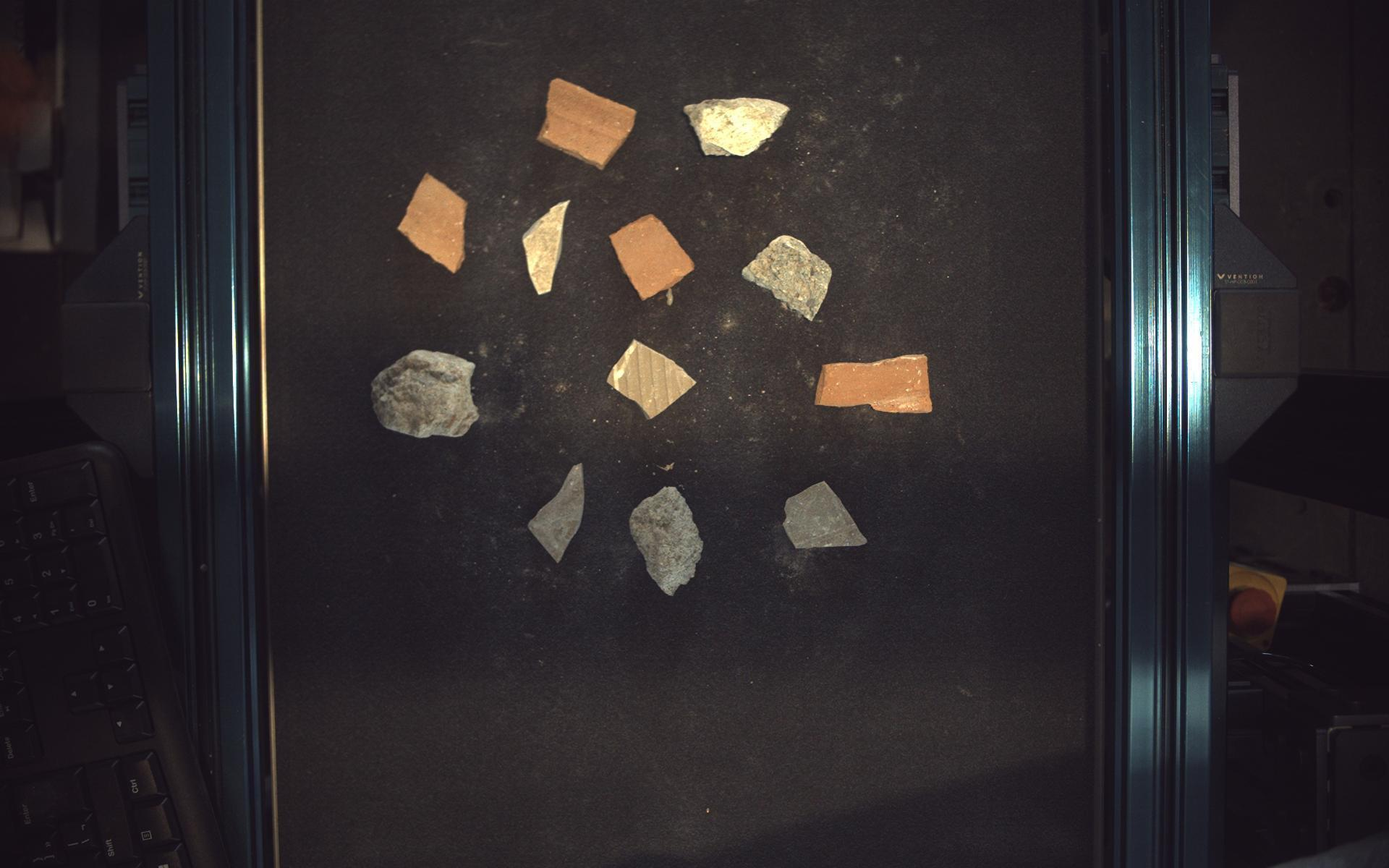brick: (538, 77, 637, 169), (611, 213, 695, 299), (817, 354, 934, 414), (399, 172, 467, 273)
concrete: (371, 349, 478, 438), (630, 487, 704, 597), (743, 234, 833, 320), (685, 96, 790, 156)
tile: (608, 340, 697, 418), (784, 482, 868, 549), (529, 464, 585, 563), (523, 200, 570, 294)
